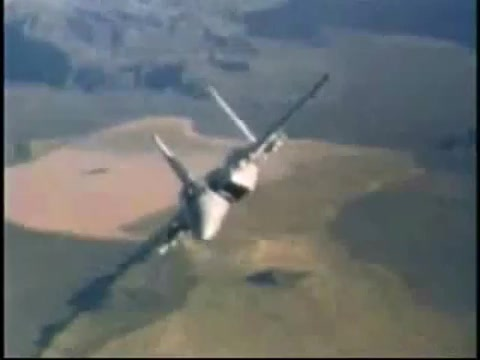aeroplane: (117, 69, 336, 275)
